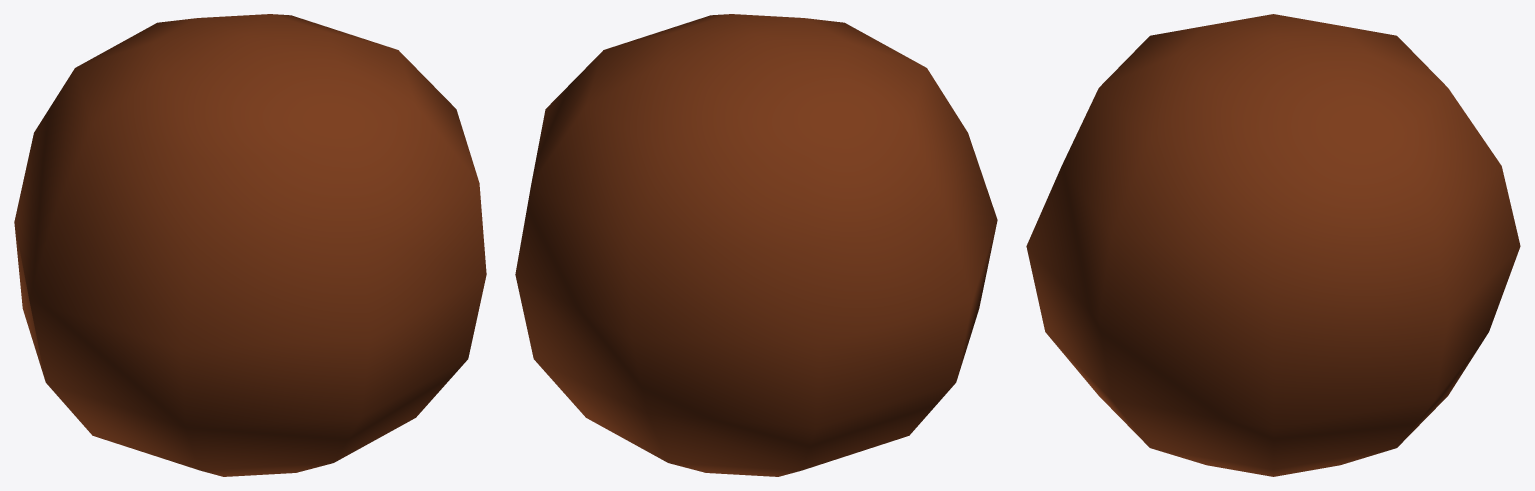
Rendered from SM_Meatball_Whole_001.fbx.
3 renders of one model, left to right at view 1: azimuth 30°, elevation 25°; view 2: azimuth 150°, elevation 25°; view 3: azimuth 270°, elevation 25°, orthographic.
Parts seen in each view (by area): view 1: Hele_Gehaktbal; view 2: Hele_Gehaktbal; view 3: Hele_Gehaktbal.
Part boxes in pixels (x1,y1,x2,y2): Hele_Gehaktbal: [14, 14, 486, 476]; Hele_Gehaktbal: [515, 14, 997, 476]; Hele_Gehaktbal: [1026, 14, 1520, 476].
Bounding box in the file's own units: 0.065 × 0.0602 × 0.0653.
